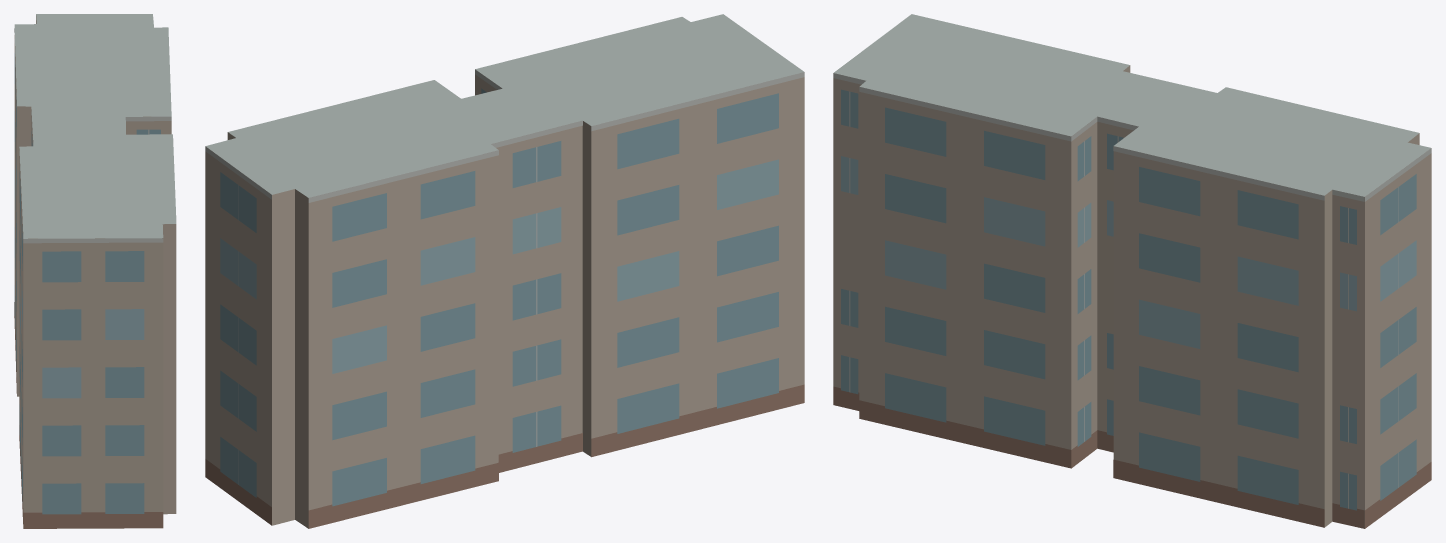
The model's file is survey-upis-32674221.glb.
3 views of the same model, side by side, from view 1: azimuth 30°, elevation 25°; view 2: azimuth 150°, elevation 25°; view 3: azimuth 270°, elevation 25° (orthographic). The views are drawn at different scales.
Visible parts, largest first — view 1: survey-upis-32674221.tmp; view 2: survey-upis-32674221.tmp; view 3: survey-upis-32674221.tmp.
Part boxes in pixels (x1,y1,x2,y2): survey-upis-32674221.tmp: (14,14,176,528); survey-upis-32674221.tmp: (205,14,804,528); survey-upis-32674221.tmp: (833,14,1431,528).
Size of the model in its own units: 18.91 by 16 by 26.14.
